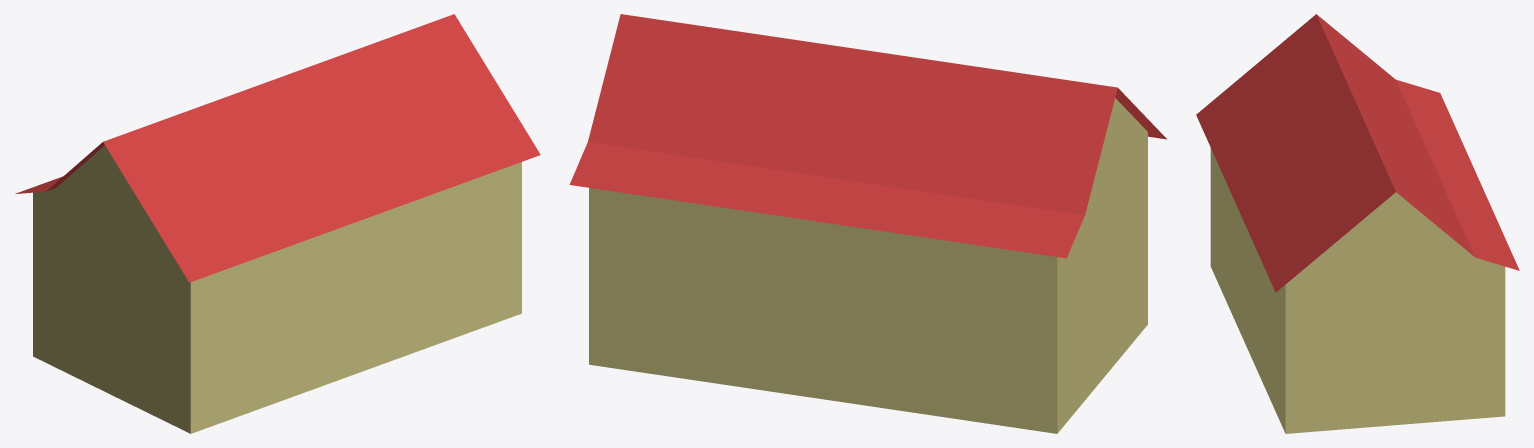
3 views of the same model, side by side, from view 1: azimuth 30°, elevation 25°; view 2: azimuth 150°, elevation 25°; view 3: azimuth 270°, elevation 25° (orthographic). The views are drawn at different scales.
Bounding box in the file's own units: 18.86 × 13.06 × 10.61.
